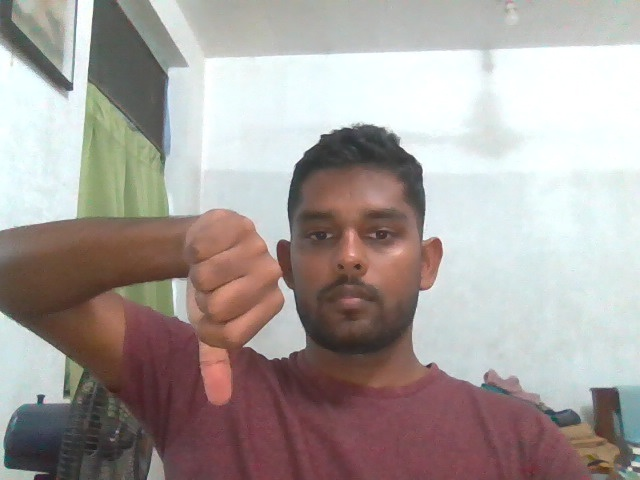dontlike: (162, 200, 296, 421)
